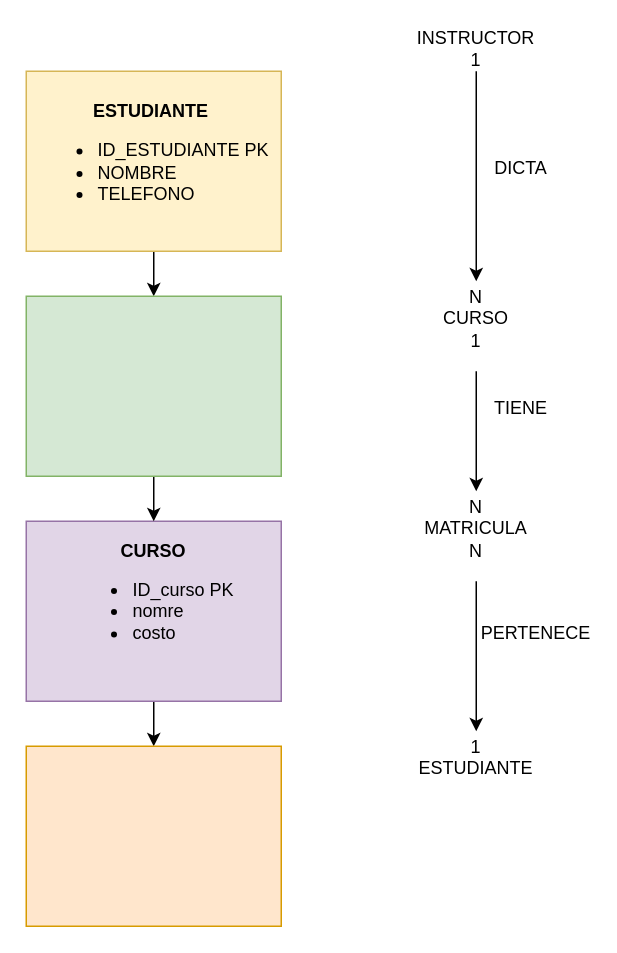
Image size: 617x953. Some labels were removed from this diagram. Each missing label, with the box of its shape:
MATRICULA ID_instructor PK nombre telefon: (25, 745, 281, 926)
MATRICULA ID_matricula PK fecha estado ID_estudiante FK ID_curso FK: (25, 295, 281, 476)
